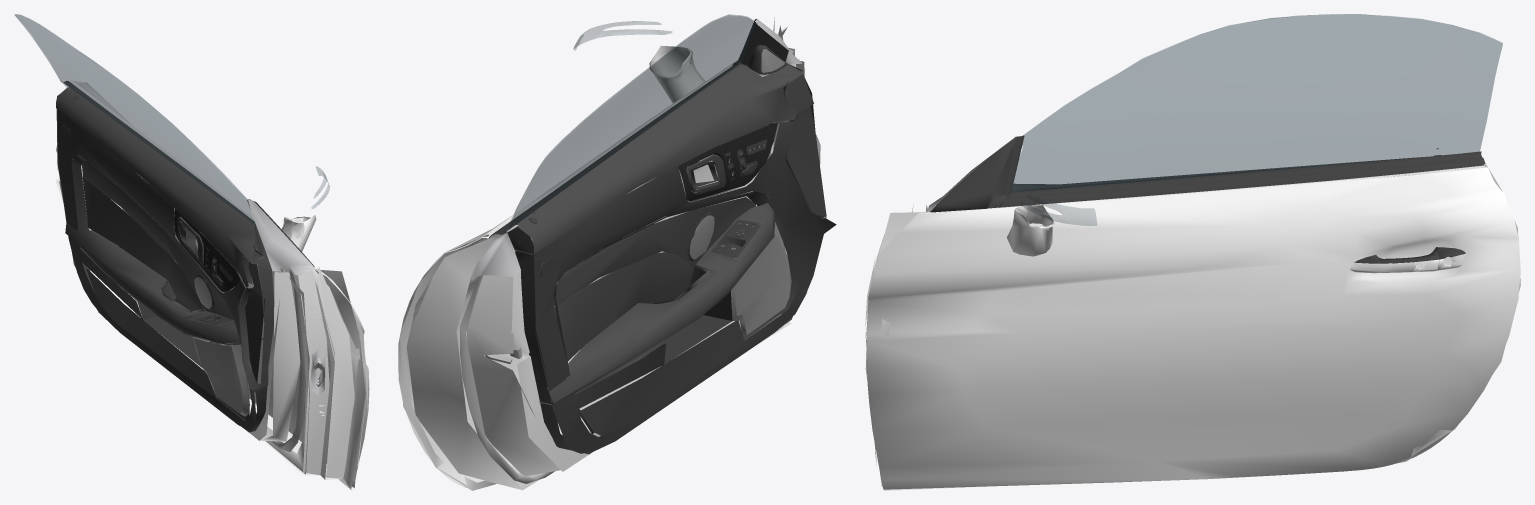
Rendered from mercedes_door.glb.
3 views of the same model, side by side, from view 1: azimuth 30°, elevation 25°; view 2: azimuth 150°, elevation 25°; view 3: azimuth 270°, elevation 25° (orthographic). The views are drawn at different scales.
Parts seen in each view (by area): view 1: mercedes_door; view 2: mercedes_door; view 3: mercedes_door.
Part boxes in pixels (bbox=[...]): mercedes_door: bbox=[15, 14, 369, 490]; mercedes_door: bbox=[398, 14, 836, 490]; mercedes_door: bbox=[865, 14, 1520, 490].
Bounding box in the file's own units: 0.4444 × 0.9297 × 1.32.
14 materials, 3 textured.
